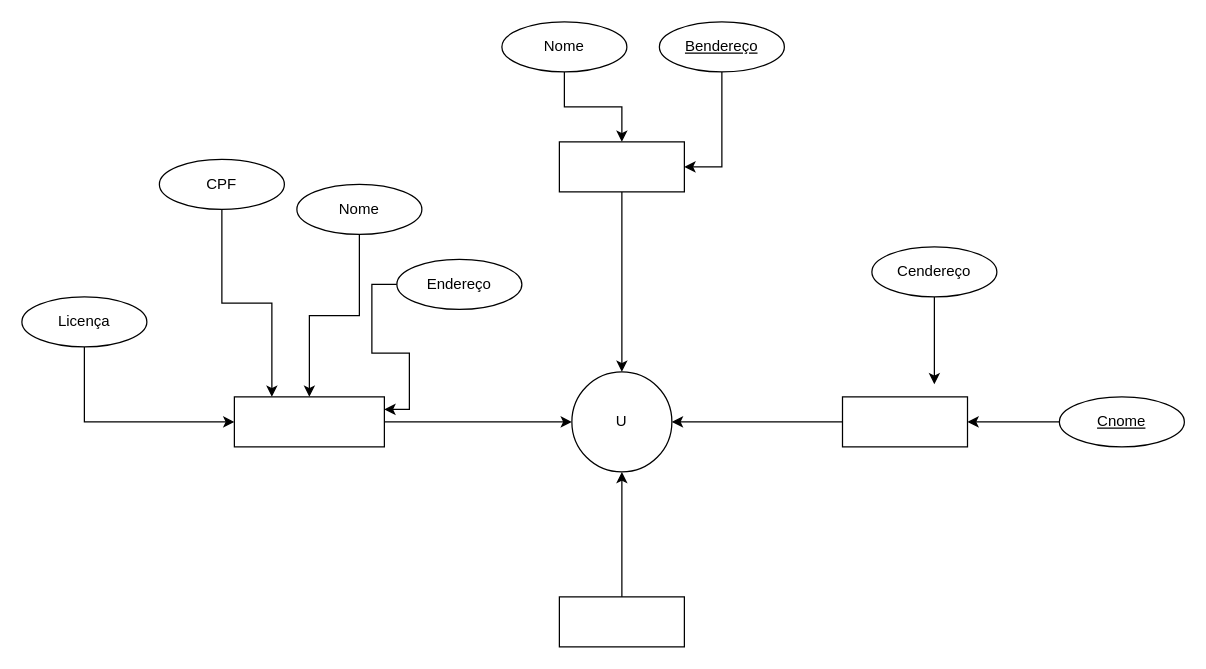
Some shapes in this 1206 by 669 pixel diagram are drawn without their labels. The box of each missing label's shape, as (x1, y1, x2, y2) in pixels:
Banco: (558, 141, 684, 192)
Company: (841, 396, 968, 447)
Owner: (558, 596, 684, 647)
Pessoa: (233, 396, 384, 447)
